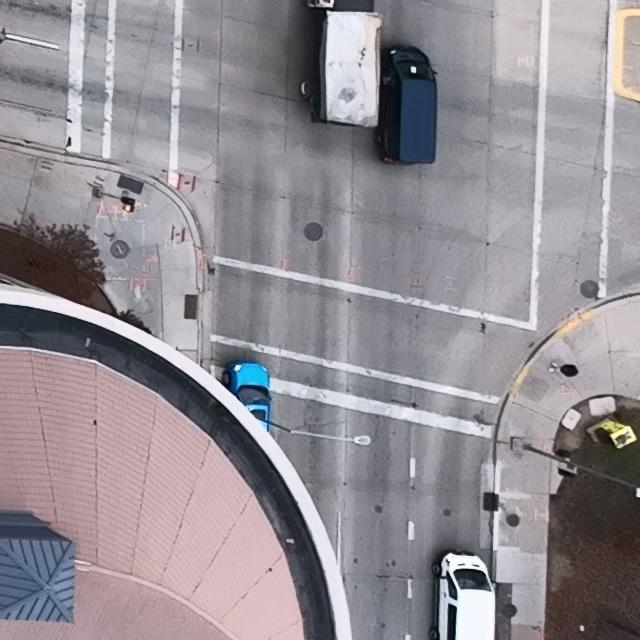car: (298, 0, 382, 127), (373, 43, 439, 165), (427, 548, 497, 640), (222, 358, 273, 433)
